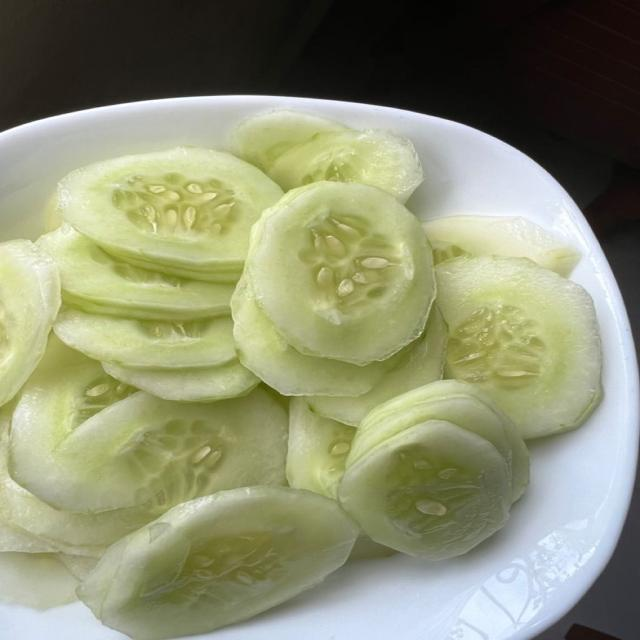cucumber sliced: (78, 487, 359, 639), (10, 361, 287, 512), (246, 182, 434, 364), (437, 257, 601, 438), (59, 147, 281, 274), (339, 421, 511, 560), (351, 380, 529, 501), (232, 275, 398, 396), (37, 226, 233, 321), (307, 305, 447, 426), (268, 130, 423, 202), (54, 308, 235, 369), (0, 240, 60, 405), (423, 216, 580, 277), (229, 109, 346, 172), (287, 398, 355, 499), (103, 360, 259, 401), (0, 552, 78, 609), (58, 553, 99, 581)
